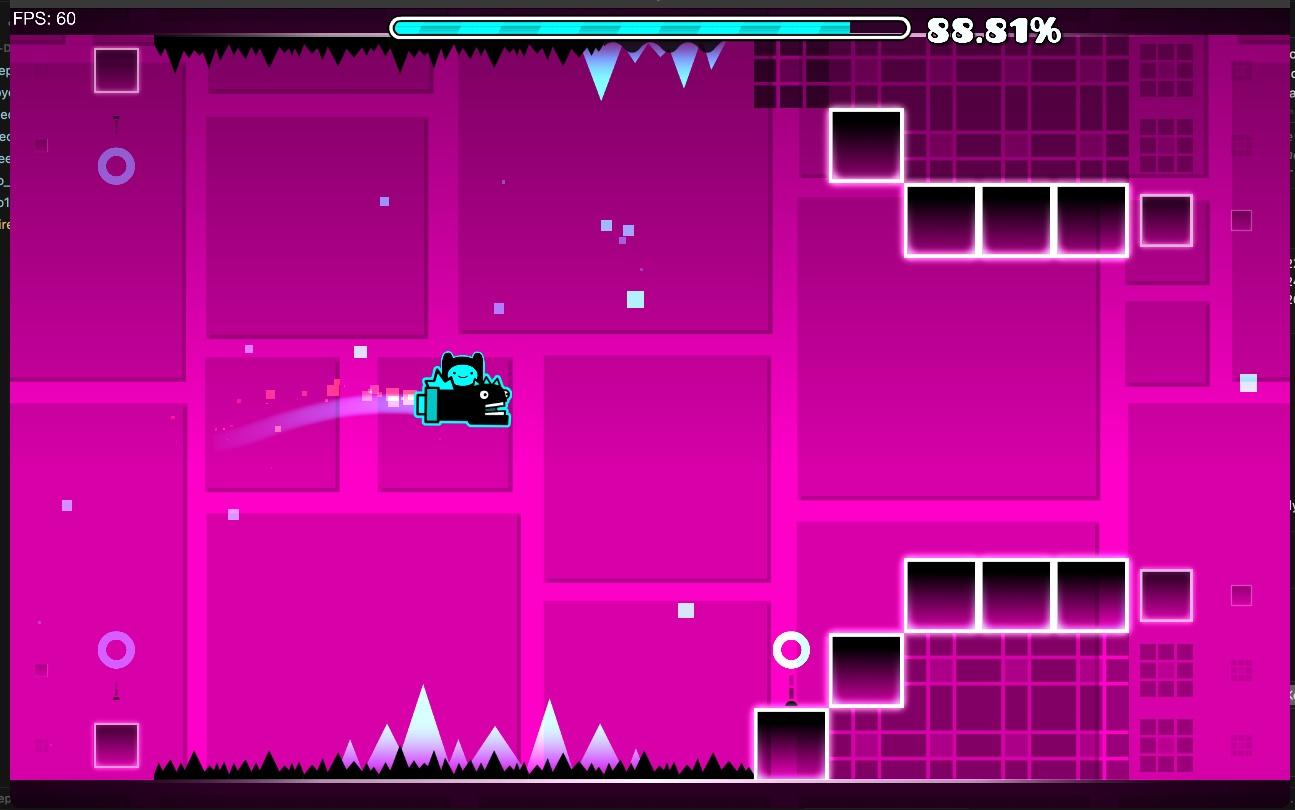block: (907, 560, 1132, 631)
spaceship: (414, 352, 510, 425)
